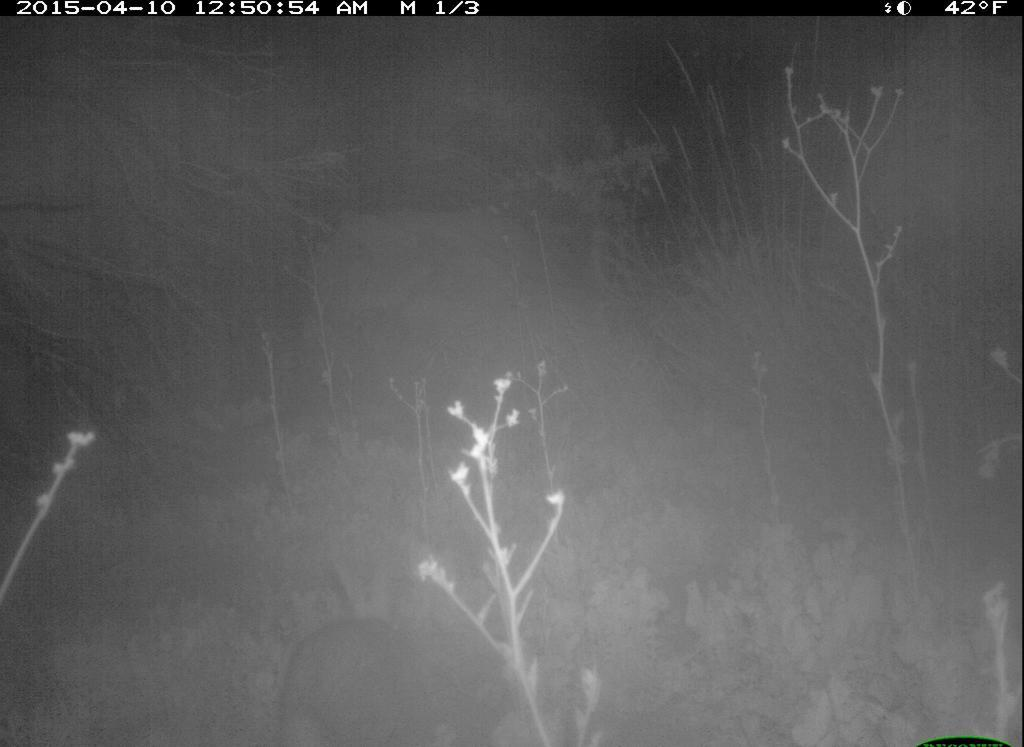rabbit: (269, 610, 513, 747)
